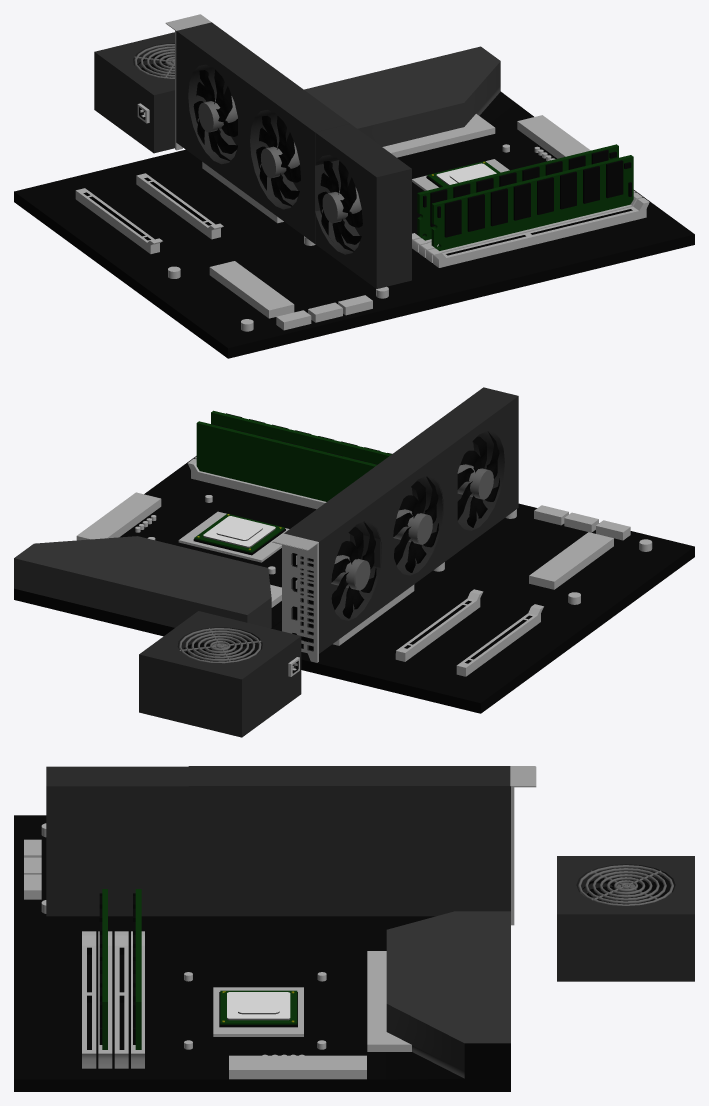
The model's file is pc_build.glb.
3 renders of one model, top to bottom at view 1: azimuth 30°, elevation 25°; view 2: azimuth 150°, elevation 25°; view 3: azimuth 270°, elevation 25°, orthographic. The views are drawn at different scales.
Parts seen in each view (by area): view 1: Mother, polySurface29, polySurface62, polySurface6, polySurface4.001, Memory_slot, pCube26, polySurface4, pCube27, GPU_socket1, GPU_socket2, CPU_ (+14 smaller); view 2: Mother, polySurface29, polySurface6, polySurface62, polySurface4, polySurface61, polySurface4.001, pCube26, CPU_, pCube27, GPU_socket1, GPU_socket2 (+6 smaller); view 3: Mother, polySurface30, polySurface62, polySurface6, polySurface29, pCube27, CPU_, Memory_slot, Memory_slot2, socket_s, Memory_slot1, polySurface4 (+7 smaller).
Boxes of the visible parts, bbox=[...] form: Mother: bbox=[14, 46, 694, 358]; polySurface29: bbox=[176, 22, 349, 243]; polySurface62: bbox=[238, 118, 411, 288]; polySurface6: bbox=[94, 32, 174, 153]; polySurface4.001: bbox=[431, 155, 633, 250]; Memory_slot: bbox=[428, 197, 649, 267]; pCube26: bbox=[209, 261, 294, 318]; polySurface4: bbox=[417, 144, 618, 240]; pCube27: bbox=[517, 115, 590, 158]; GPU_socket1: bbox=[136, 173, 223, 239]; GPU_socket2: bbox=[75, 188, 162, 253]; CPU_: bbox=[427, 161, 500, 186]; Mother: bbox=[14, 456, 694, 713]; polySurface29: bbox=[284, 432, 457, 653]; polySurface6: bbox=[139, 611, 301, 737]; polySurface62: bbox=[350, 387, 518, 567]; polySurface4: bbox=[196, 421, 377, 501]; polySurface61: bbox=[272, 534, 317, 662]; polySurface4.001: bbox=[211, 410, 391, 464]; pCube26: bbox=[529, 532, 613, 589]; CPU_: bbox=[194, 513, 284, 552]; pCube27: bbox=[76, 492, 161, 540]; GPU_socket1: bbox=[395, 589, 483, 661]; GPU_socket2: bbox=[456, 604, 543, 676]; Mother: bbox=[14, 815, 510, 1091]; polySurface30: bbox=[205, 786, 510, 916]; polySurface62: bbox=[46, 766, 367, 916]; polySurface6: bbox=[557, 856, 694, 981]; polySurface29: bbox=[188, 766, 510, 786]; pCube27: bbox=[229, 1055, 366, 1079]; CPU_: bbox=[220, 990, 297, 1024]; Memory_slot: bbox=[82, 931, 96, 1068]; Memory_slot2: bbox=[114, 931, 128, 1068]; socket_s: bbox=[213, 987, 303, 1036]; Memory_slot1: bbox=[98, 931, 112, 1068]; polySurface4: bbox=[135, 889, 141, 1049].
Bounding box in the file's own units: 0.0769 × 0.0215 × 0.0837.
